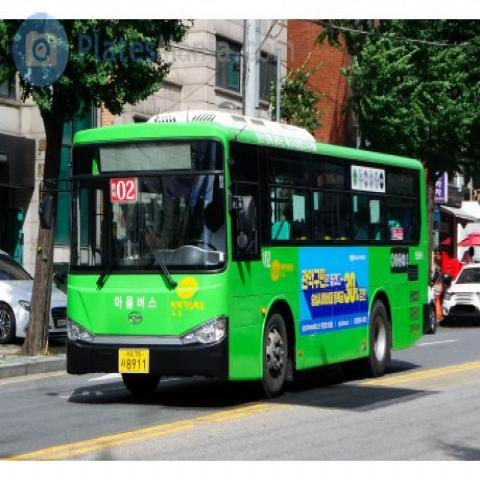LP: (112, 342, 157, 381)
